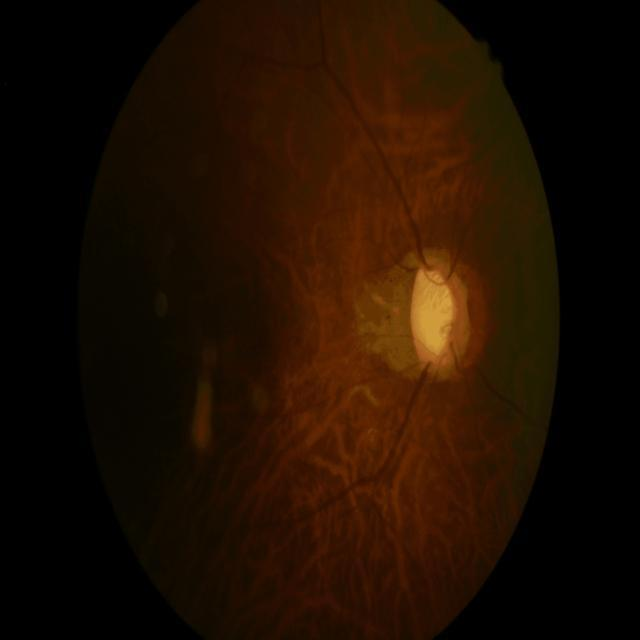cup: (412, 268, 459, 362)
disk: (410, 256, 472, 378)
